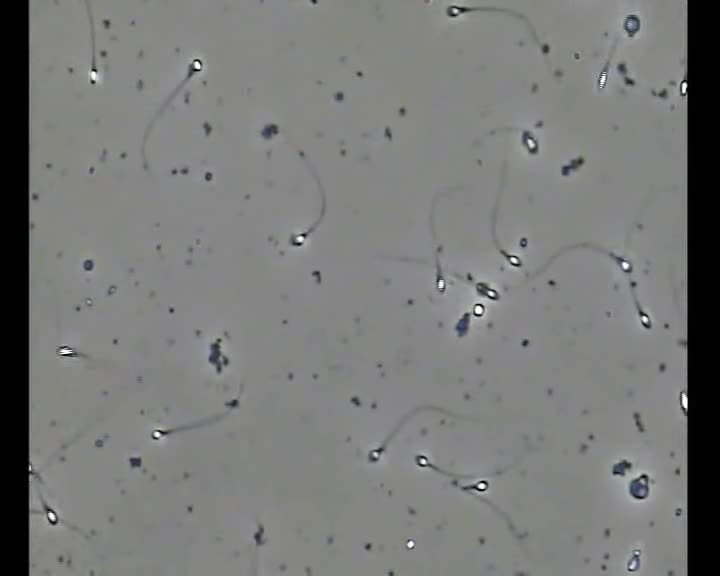spermhead: (629, 473, 650, 500), (610, 252, 633, 273), (475, 281, 498, 300), (521, 130, 538, 154), (623, 12, 639, 36), (455, 312, 470, 336), (55, 347, 73, 366), (611, 459, 631, 476), (464, 479, 488, 492), (626, 550, 640, 572), (503, 251, 521, 267), (188, 57, 204, 75), (289, 231, 307, 246), (446, 4, 466, 17), (415, 453, 431, 468), (368, 446, 383, 462), (88, 66, 100, 86), (46, 504, 58, 524), (639, 310, 652, 328), (434, 275, 444, 296), (152, 427, 168, 440), (598, 71, 608, 91), (472, 302, 485, 317), (681, 389, 687, 415), (224, 398, 239, 408), (29, 466, 39, 480), (680, 76, 686, 96), (86, 296, 94, 308), (407, 539, 415, 550)
